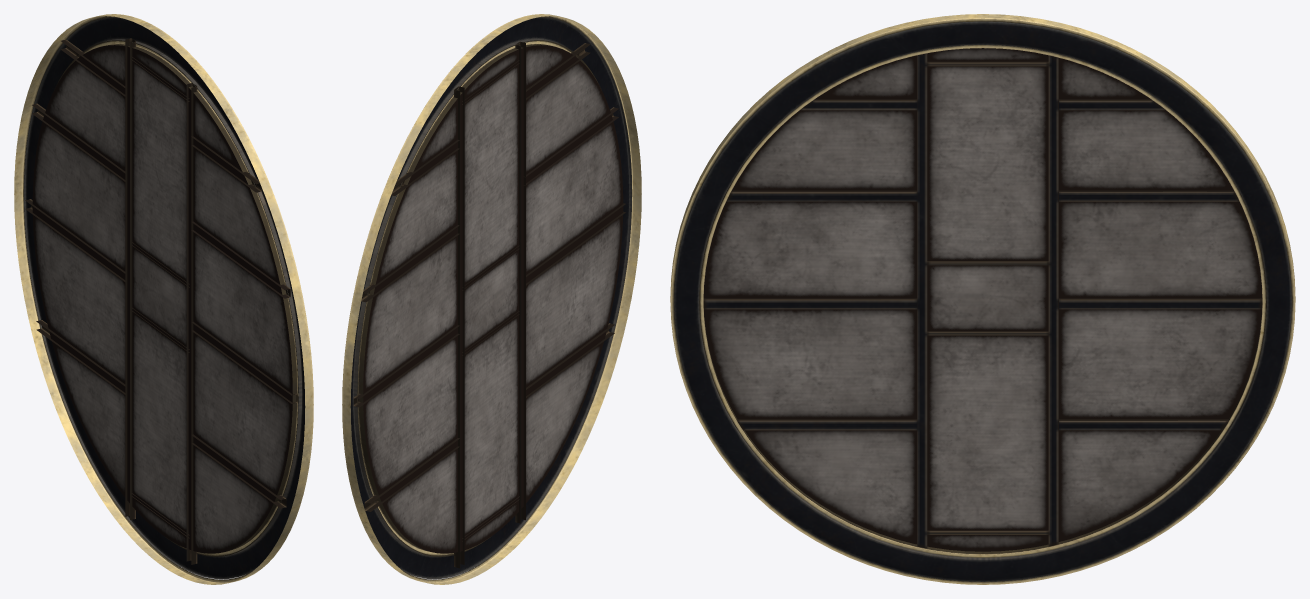
File: SM_Wall_Pannels_04.fbx
3 views of the same model, side by side, from view 1: azimuth 30°, elevation 25°; view 2: azimuth 150°, elevation 25°; view 3: azimuth 270°, elevation 25° (orthographic). The views are drawn at different scales.
Parts seen in each view (by area): view 1: SM_Wall_Pannels_04_LOD0; view 2: SM_Wall_Pannels_04_LOD0; view 3: SM_Wall_Pannels_04_LOD0.
Boxes of the visible parts, left/top/right/bottom form: SM_Wall_Pannels_04_LOD0: left=14, top=14, right=313, bottom=584; SM_Wall_Pannels_04_LOD0: left=342, top=14, right=641, bottom=584; SM_Wall_Pannels_04_LOD0: left=670, top=14, right=1295, bottom=584.
Size of the model in its own units: 5.16 by 232 by 232.
